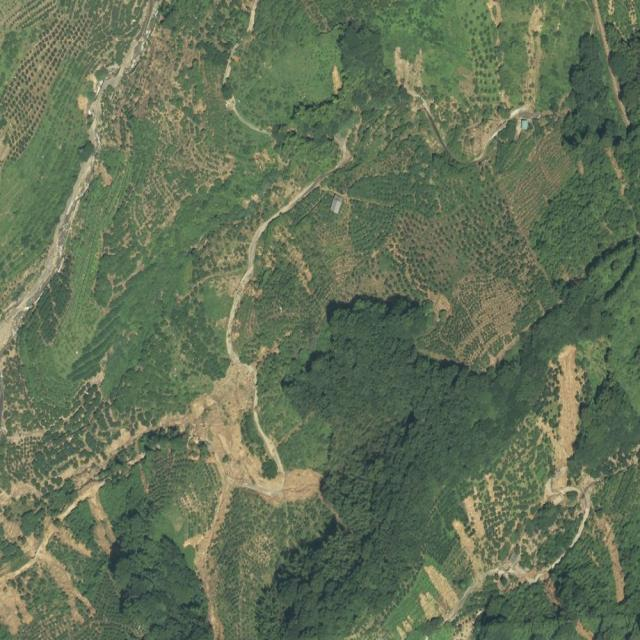landslide: (184, 362, 321, 588), (540, 345, 584, 491)
